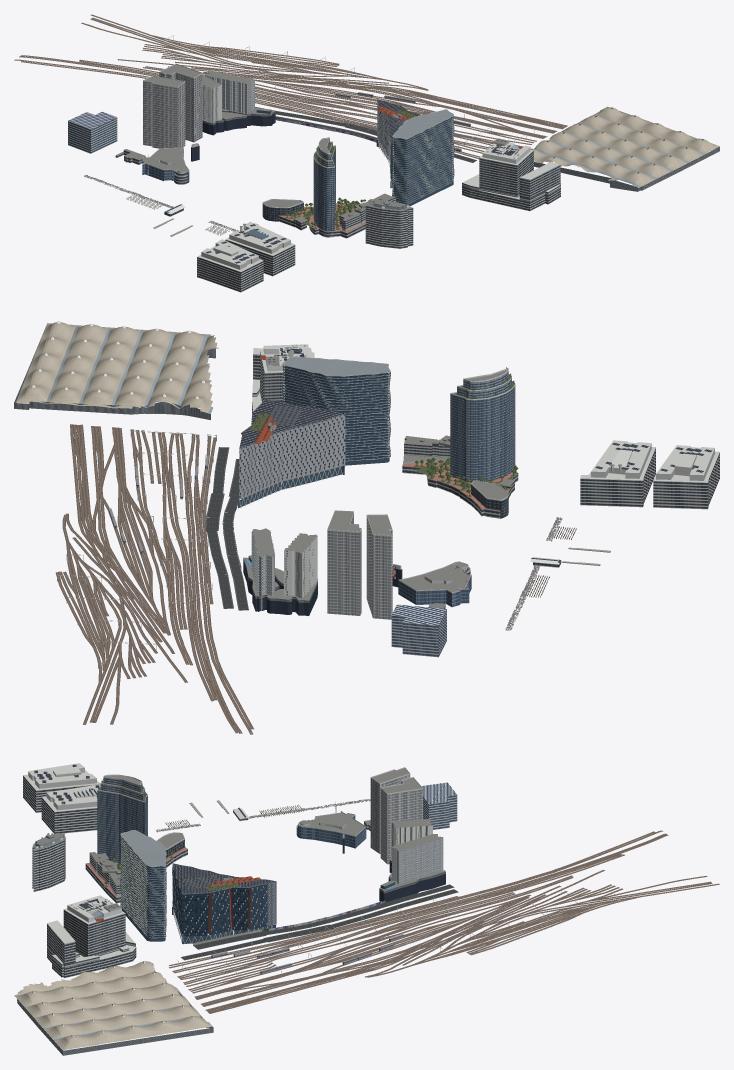
Rendered from landmarks.glb.
The picture shows the model from 3 angles, top to bottom: view 1: azimuth 30°, elevation 25°; view 2: azimuth 150°, elevation 25°; view 3: azimuth 270°, elevation 25°; orthographic projection. The views are drawn at different scales.
Visible parts, largest first — view 1: track, sx_roof, fac0, roof_grey, roof_white, bourke_glass, balustrade, fac1, bourke_edge, fac13, fac21, fac3 (+19 smaller); view 2: track, sx_roof, fac21, roof_grey, nab_west, fac0, bourke_glass, fac1, roof_white, balustrade, road3, bourke_edge (+21 smaller); view 3: track, sx_roof, roof_grey, roof_white, fac0, fac21, balustrade, road3, fac3, slab_grey, fac1, lattice_white (+28 smaller).
Boxes of the visible parts, <box> form: track: <box>14,14,567,159</box>; sx_roof: <box>531,107,719,187</box>; fac0: <box>143,72,202,148</box>; roof_grey: <box>116,64,719,227</box>; roof_white: <box>197,142,560,271</box>; bourke_glass: <box>394,117,452,203</box>; balustrade: <box>392,117,454,204</box>; fac1: <box>197,224,295,292</box>; bourke_edge: <box>392,115,453,204</box>; fac13: <box>365,203,413,248</box>; fac21: <box>313,146,335,237</box>; fac3: <box>479,150,533,195</box>; track: <box>55,424,253,734</box>; sx_roof: <box>16,322,218,413</box>; fac21: <box>450,385,515,482</box>; roof_grey: <box>14,356,621,608</box>; nab_west: <box>239,415,345,499</box>; fac0: <box>327,513,392,619</box>; bourke_glass: <box>285,366,388,459</box>; fac1: <box>580,448,719,509</box>; roof_white: <box>252,344,719,482</box>; balustrade: <box>282,366,390,460</box>; road3: <box>206,447,248,610</box>; bourke_edge: <box>282,364,390,461</box>; track: <box>169,830,719,1013</box>; sx_roof: <box>14,961,212,1050</box>; roof_grey: <box>17,768,445,1055</box>; roof_white: <box>23,763,135,964</box>; fac0: <box>370,774,422,864</box>; fac21: <box>97,790,147,863</box>; balustrade: <box>120,836,166,937</box>; road3: <box>181,884,458,960</box>; fac3: <box>63,910,125,956</box>; slab_grey: <box>120,830,166,937</box>; fac1: <box>23,775,100,833</box>; lattice_white: <box>392,836,443,883</box>.
Bounding box in the file's own units: 852 × 132 × 925.
Materials: 77 (77 with a texture image).
